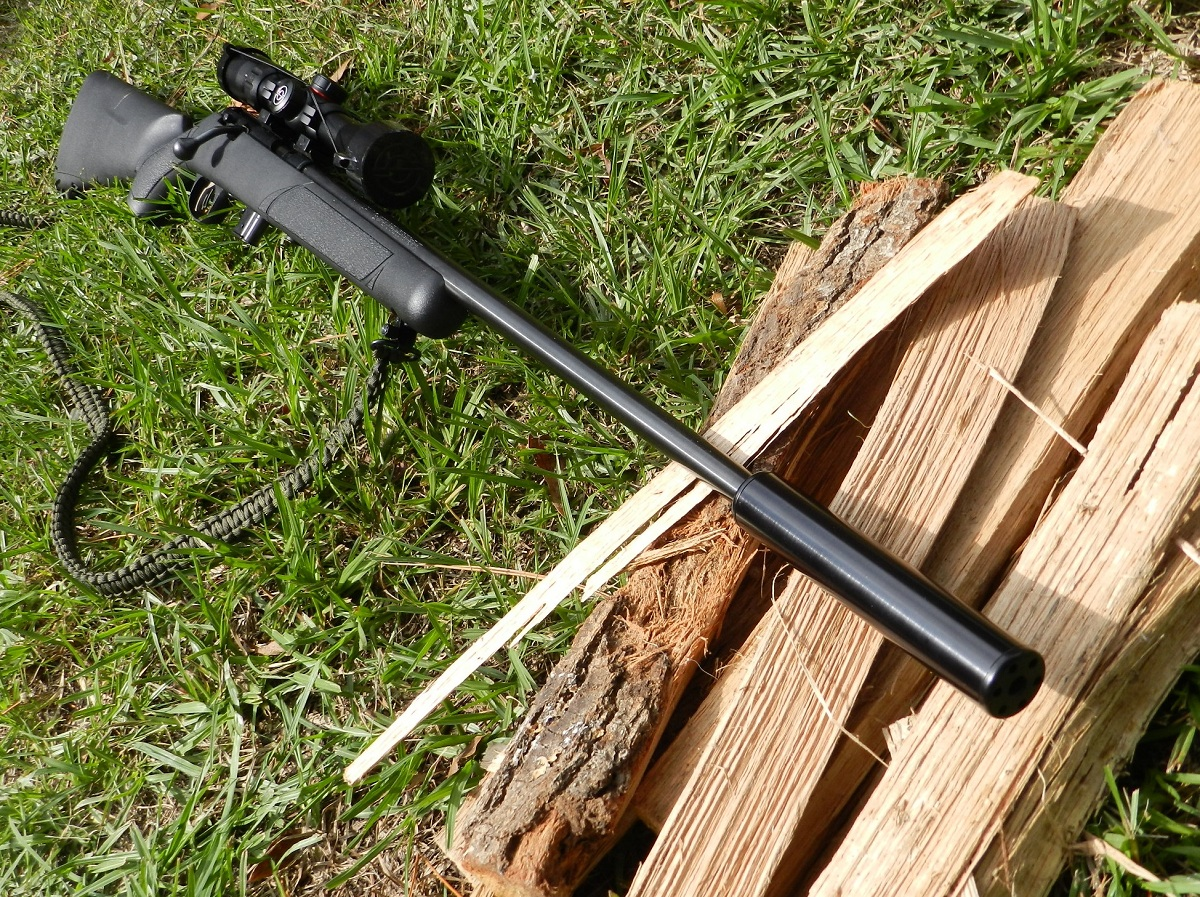Rifle: (48, 43, 1052, 726)
